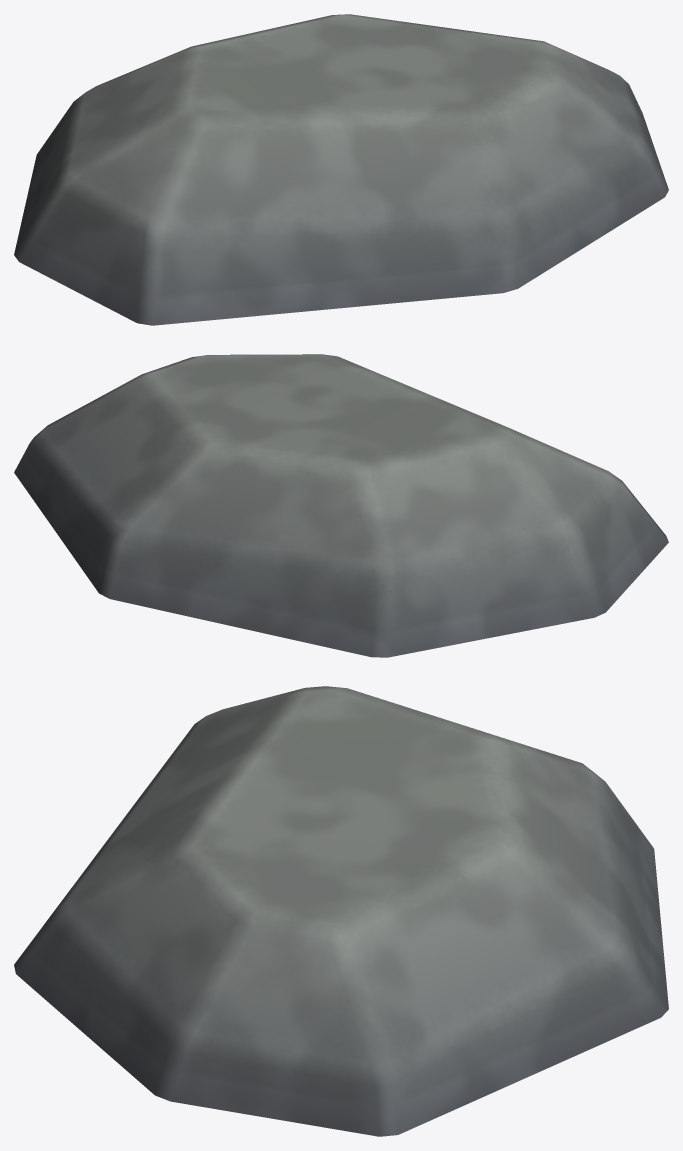
File: pebble_1.glb
3 views of the same model, one above another, from view 1: azimuth 30°, elevation 25°; view 2: azimuth 150°, elevation 25°; view 3: azimuth 270°, elevation 25° (orthographic). The views are drawn at different scales.
Visible parts, largest first — view 1: pebble_1; view 2: pebble_1; view 3: pebble_1.
Boxes of the visible parts, x1,y1,x2,y2 form: pebble_1: (14, 14, 668, 325); pebble_1: (14, 354, 668, 657); pebble_1: (14, 686, 668, 1136).
Size of the model in its own units: 0.12 by 0.025 by 0.09.
Materials: 1 (1 with a texture image).
